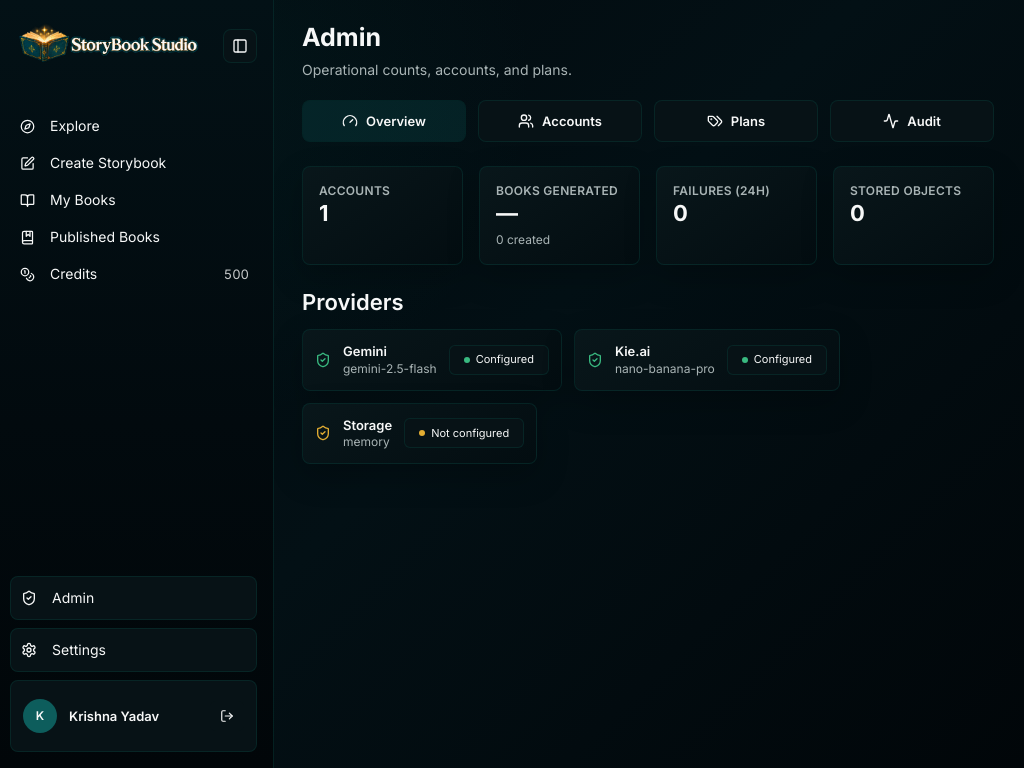
Test: admin credit adjustments › shows each account’s balance
Click the tab "Accounts": click(560, 121) [478,100,642,142]
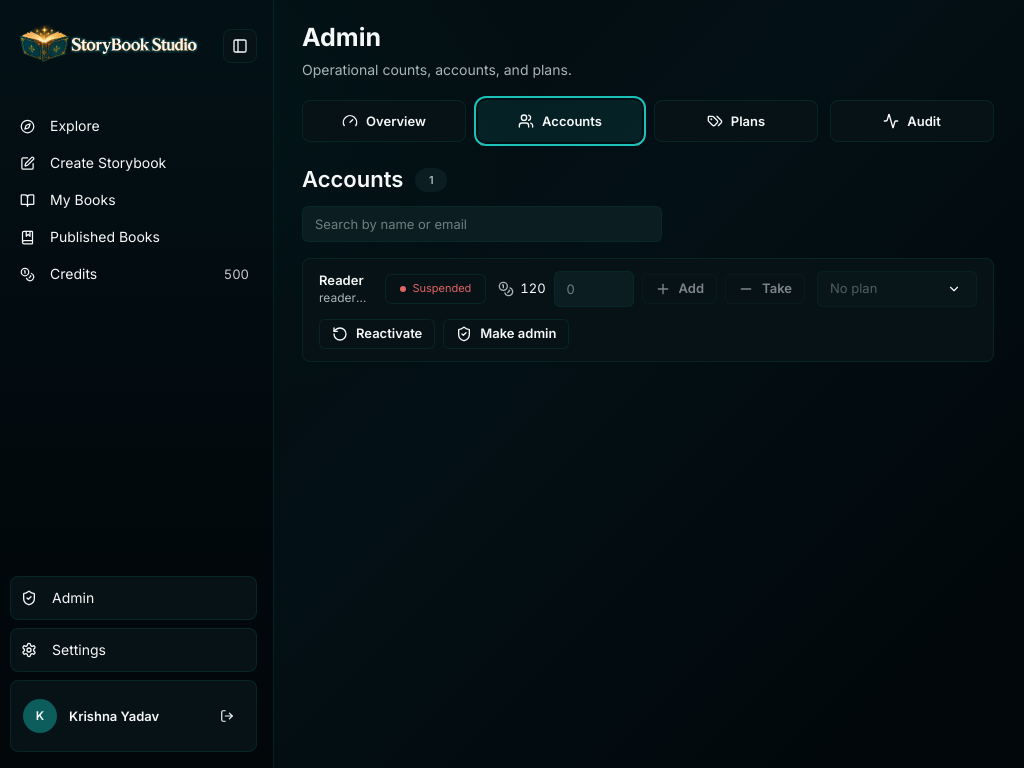
Check: the text "120" is shown, box [520,279,546,298]
